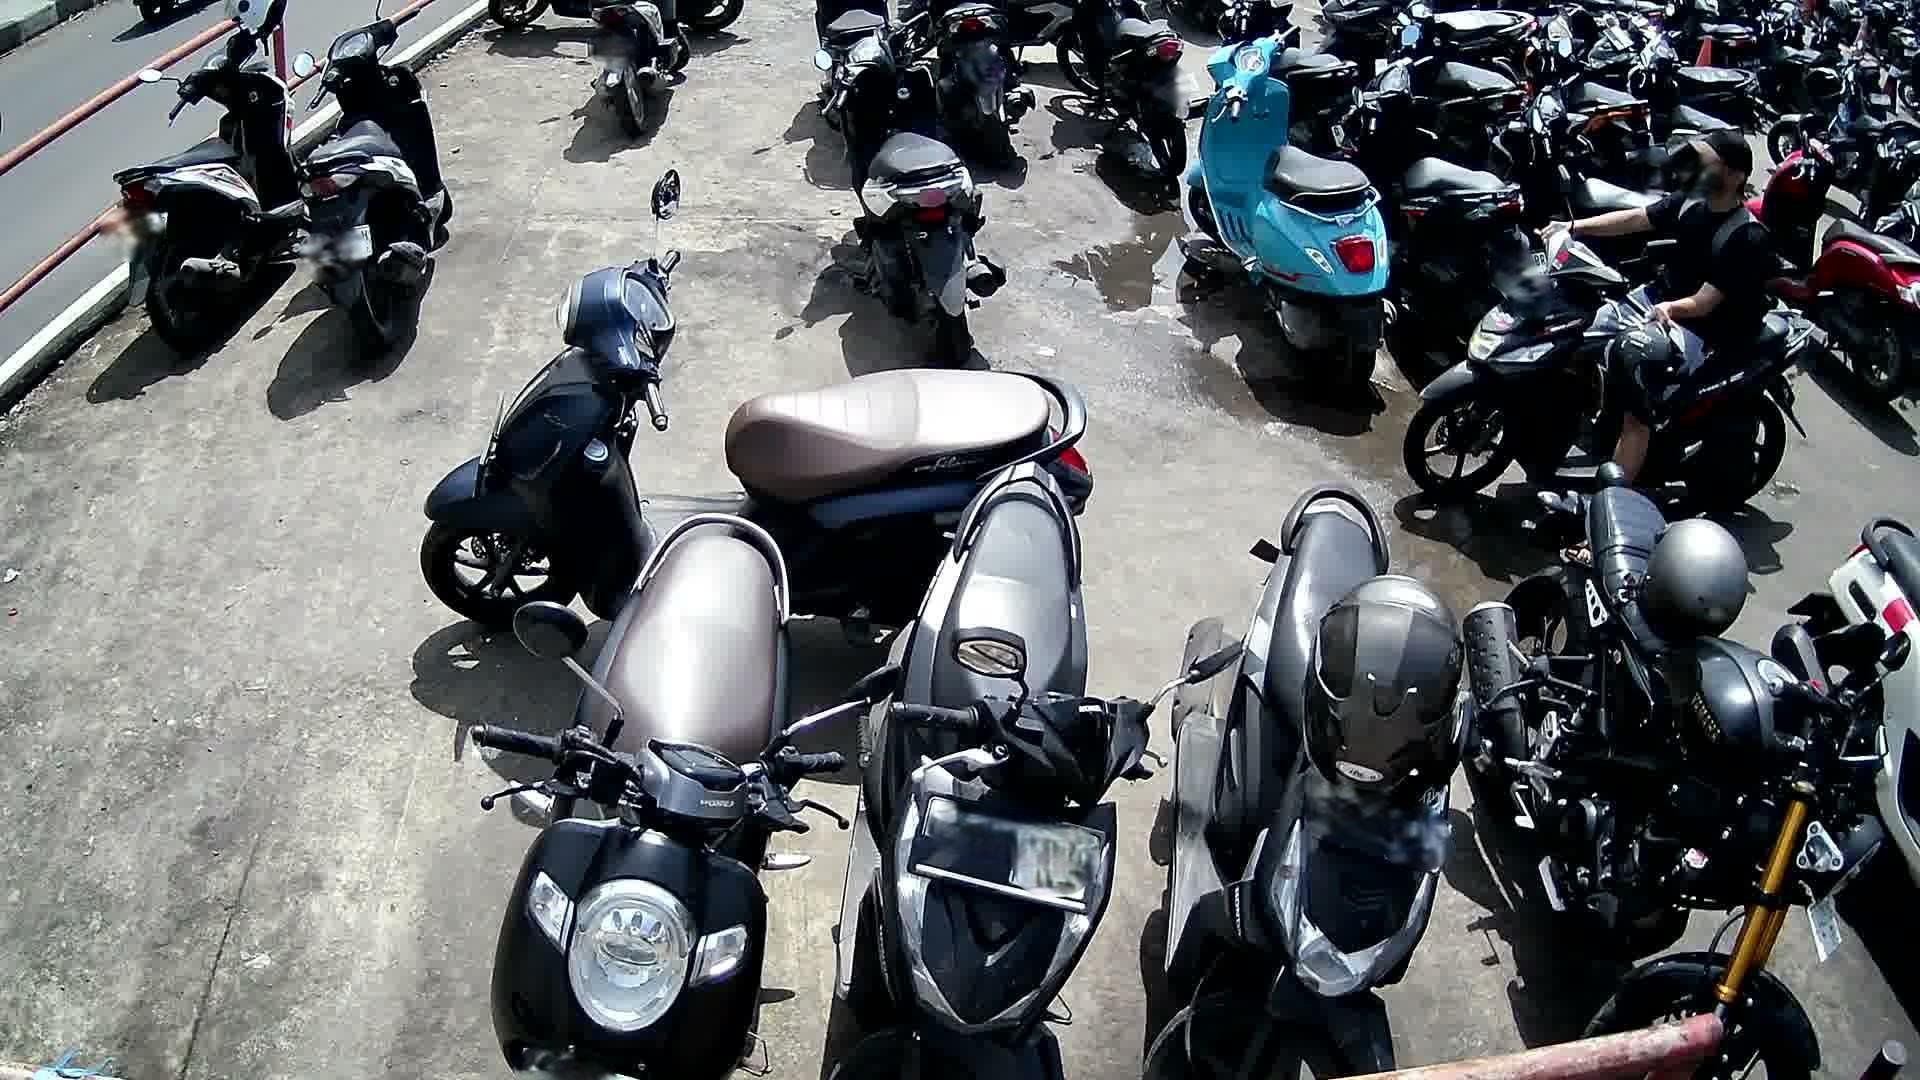motorcycle: (421, 166, 1093, 628), (1462, 462, 1912, 1080), (832, 460, 1244, 1080), (469, 512, 844, 1080), (1139, 484, 1482, 1080), (1407, 229, 1815, 497), (1185, 22, 1400, 404), (811, 13, 1007, 361), (112, 20, 310, 349), (1771, 512, 1920, 886), (293, 4, 452, 353), (1325, 55, 1530, 310), (1745, 131, 1920, 404), (1477, 74, 1656, 210)
